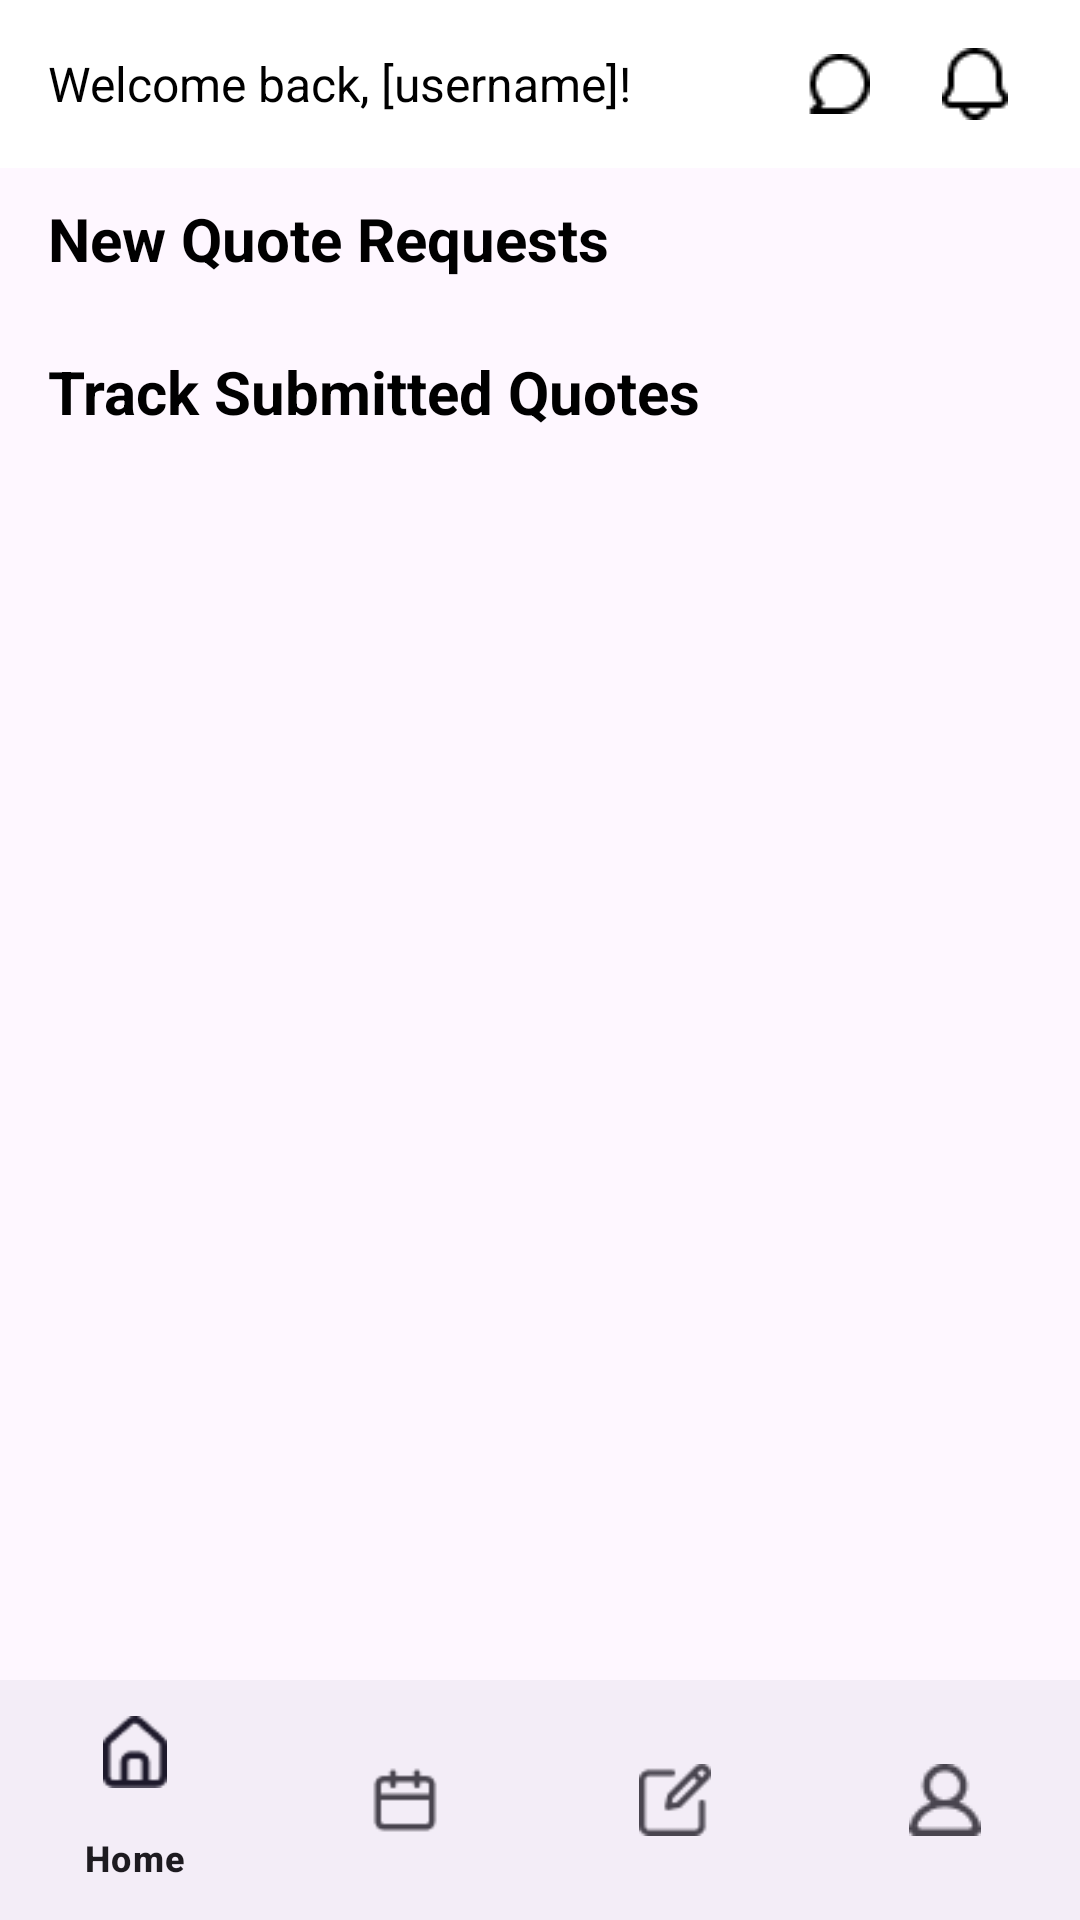

Icon click points for this 1080x1920 phone screenshot, format point (x, y):
Chat Icon: point (839, 84)
Notification Icon: point (975, 84)
